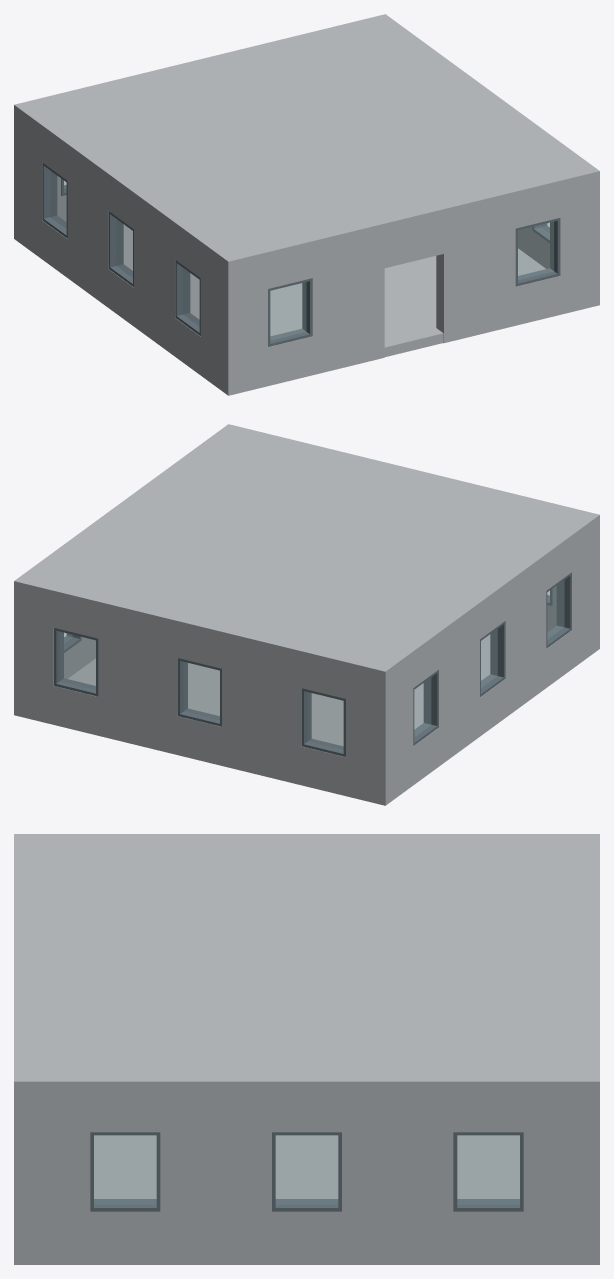
File: bungalow_1_lod1.glb
3 renders of one model, top to bottom at view 1: azimuth 30°, elevation 25°; view 2: azimuth 150°, elevation 25°; view 3: azimuth 270°, elevation 25°, orthographic. The views are drawn at different scales.
Parts seen in each view (by area): view 1: Ceiling baked, Wall_0 baked, Wall_3 baked, Floor baked, Glazing baked, Glazing.001 baked, Wall_1 baked, Wall_2 baked, Glazing.008 baked, Glazing.010 baked, Glazing.009 baked, Window jamb.018 baked (+4 smaller); view 2: Ceiling baked, Wall_1 baked, Wall_3 baked, Floor baked, Glazing.004 baked, Glazing.003 baked, Glazing.002 baked, Wall_0 baked, Wall_2 baked, Glazing.010 baked, Glazing.008 baked, Glazing.009 baked (+6 smaller); view 3: Ceiling baked, Wall_2 baked, Floor baked, Glazing.005 baked, Glazing.007 baked, Glazing.006 baked, Wall_0 baked, Wall_1 baked, Window sill.012 baked, Window sill.010 baked, Window sill.014 baked.
Boxes of the visible parts, x1,y1,x2,y2 form: Ceiling baked: (14, 14, 599, 271); Wall_0 baked: (221, 181, 599, 395); Wall_3 baked: (21, 120, 220, 389); Floor baked: (123, 224, 545, 356); Glazing baked: (270, 282, 306, 339); Glazing.001 baked: (518, 222, 553, 279); Wall_1 baked: (14, 115, 66, 243); Wall_2 baked: (518, 227, 549, 268); Glazing.008 baked: (49, 170, 66, 229); Glazing.010 baked: (182, 268, 199, 326); Glazing.009 baked: (116, 219, 132, 277); Window jamb.018 baked: (108, 211, 123, 269); Ceiling baked: (14, 424, 599, 681); Wall_1 baked: (14, 591, 392, 805); Wall_3 baked: (393, 530, 592, 799); Floor baked: (68, 634, 490, 745); Glazing.004 baked: (307, 692, 343, 749); Glazing.003 baked: (183, 662, 219, 719); Glazing.002 baked: (60, 632, 95, 689); Wall_0 baked: (547, 525, 599, 653); Wall_2 baked: (64, 637, 95, 678); Glazing.010 baked: (547, 580, 564, 638); Glazing.008 baked: (414, 678, 430, 736); Glazing.009 baked: (481, 629, 497, 687); Ceiling baked: (14, 834, 599, 1094); Wall_2 baked: (34, 1095, 579, 1264); Floor baked: (94, 1135, 519, 1198); Glazing.005 baked: (94, 1135, 156, 1203); Glazing.007 baked: (457, 1135, 519, 1203); Glazing.006 baked: (276, 1135, 337, 1203); Wall_0 baked: (14, 1095, 34, 1264); Wall_1 baked: (579, 1095, 599, 1264); Window sill.012 baked: (275, 1199, 338, 1211); Window sill.010 baked: (94, 1199, 156, 1211); Window sill.014 baked: (457, 1199, 519, 1211).
Size of the model in its own units: 10 by 3.45 by 10.
